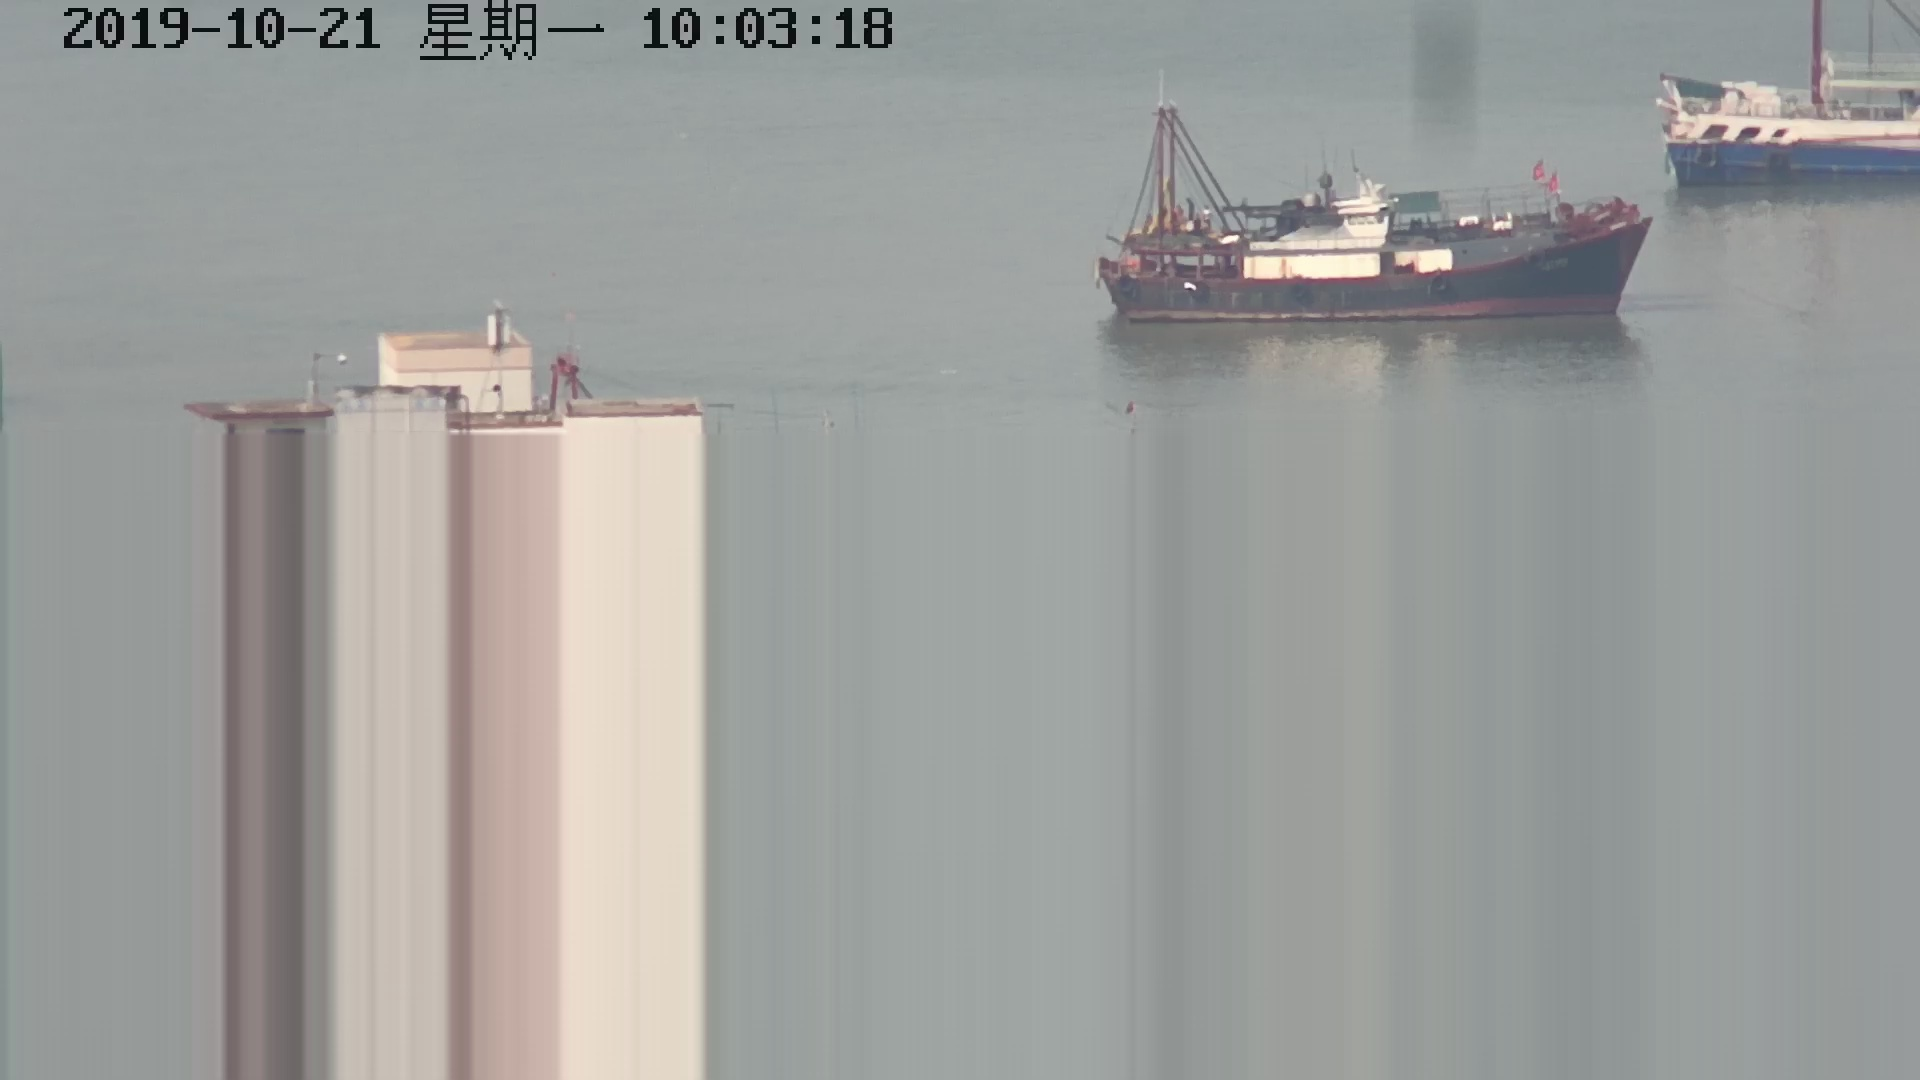ship: (1102, 109, 1651, 334), (1655, 65, 1916, 181)
